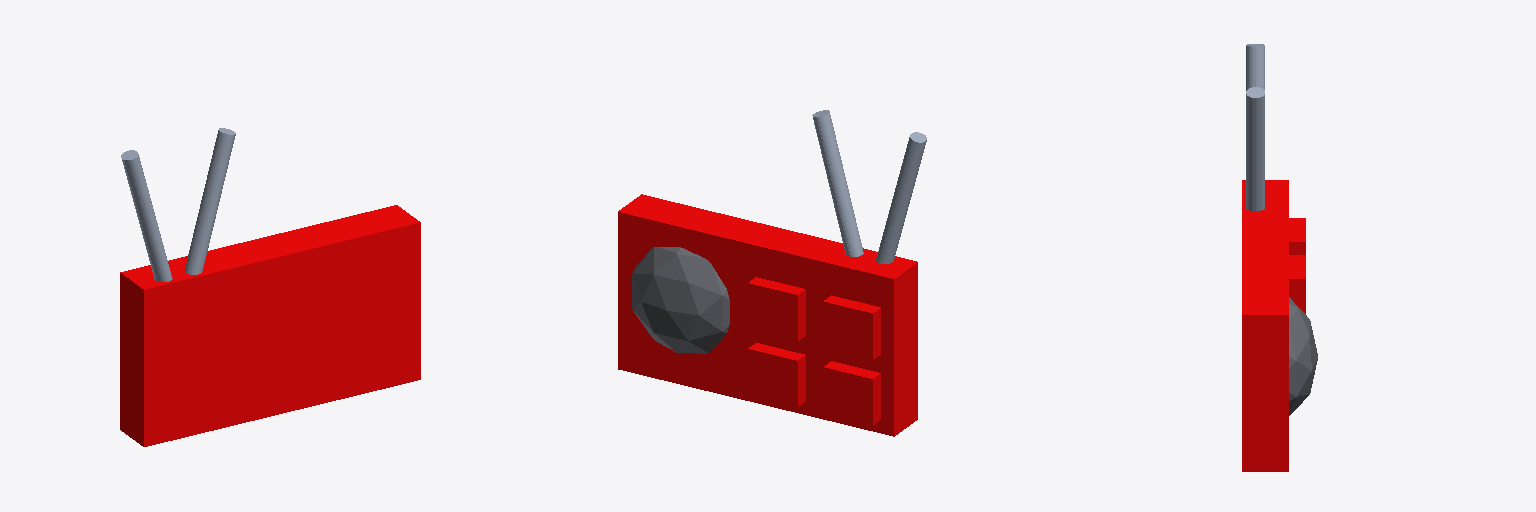
Rendered from Radio.obj.
3 renders of one model, left to right at view 1: azimuth 30°, elevation 25°; view 2: azimuth 150°, elevation 25°; view 3: azimuth 270°, elevation 25°, orthographic.
Parts seen in each view (by area): view 1: mergedBlocks; view 2: mergedBlocks; view 3: mergedBlocks.
Boxes of the visible parts, <box> form: mergedBlocks: <box>120,128,420,446</box>; mergedBlocks: <box>618,110,926,436</box>; mergedBlocks: <box>1242,44,1317,471</box>.
Size of the model in its own units: 0.464 by 0.4429 by 0.106.